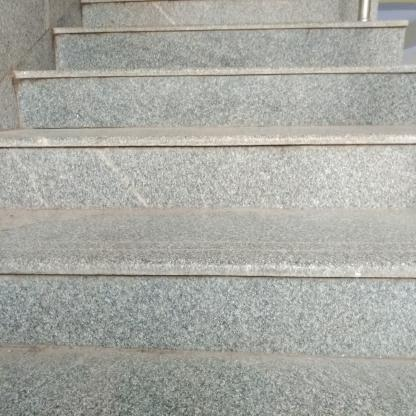stairs: (18, 73, 415, 416)
